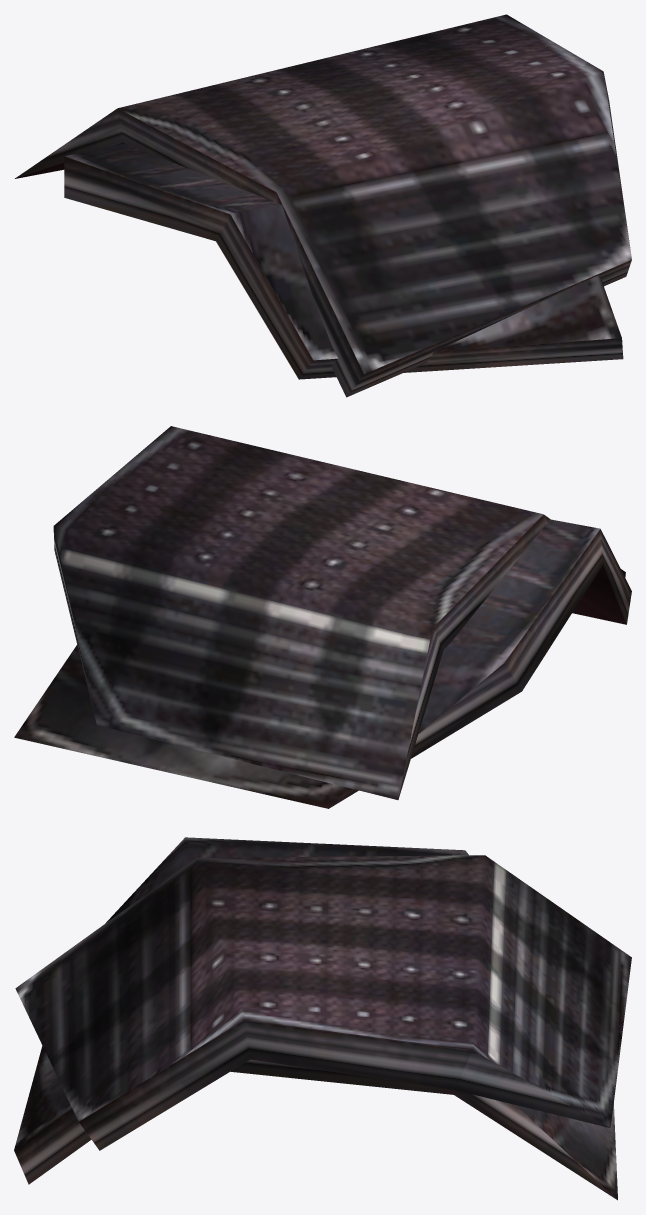
Rendered from ShoulderPads7__MOB.glb.
The picture shows the model from 3 angles, top to bottom: view 1: azimuth 30°, elevation 25°; view 2: azimuth 150°, elevation 25°; view 3: azimuth 270°, elevation 25°; orthographic projection. The views are drawn at different scales.
Parts seen in each view (by area): view 1: ShoulderPads7; view 2: ShoulderPads7; view 3: ShoulderPads7.
Boxes of the visible parts, x1,y1,x2,y2 form: ShoulderPads7: (15,14,631,397); ShoulderPads7: (14,426,631,808); ShoulderPads7: (14,837,631,1200).
Bounding box in the file's own units: 10.11 × 4.05 × 10.94.
1 material, 1 textured.
